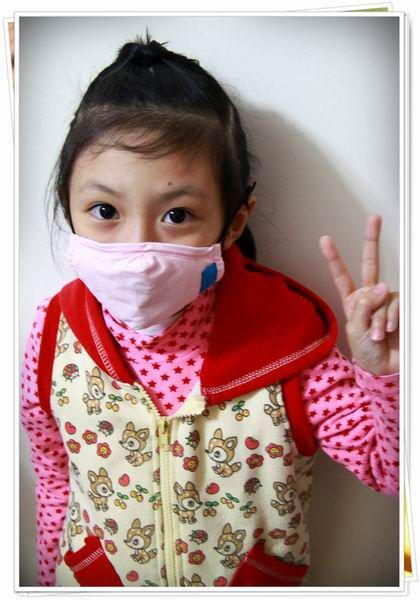OK: (76, 173, 222, 319)
